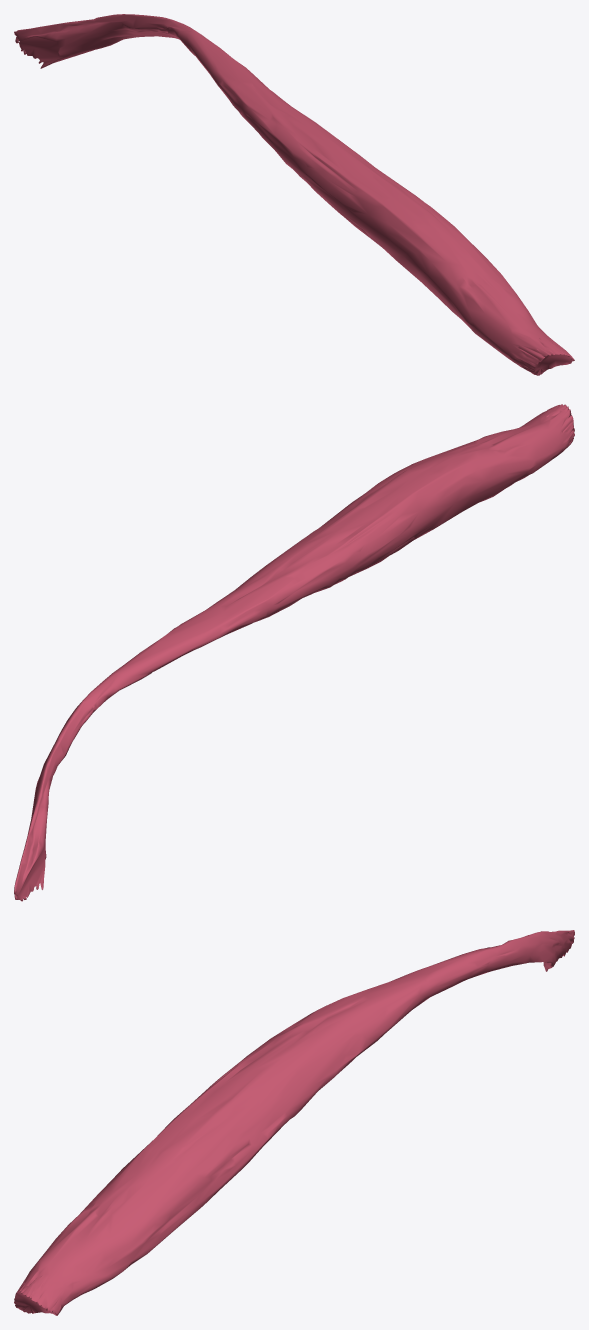
The picture shows the model from 3 angles, top to bottom: view 1: azimuth 30°, elevation 25°; view 2: azimuth 150°, elevation 25°; view 3: azimuth 330°, elevation 25°; orthographic projection. The views are drawn at different scales.
Visible parts, largest first — view 1: 右侧半腱肌; view 2: 右侧半腱肌; view 3: 右侧半腱肌.
Part boxes in pixels (x1=…): 右侧半腱肌: x1=14, y1=14, x2=574, y2=375; 右侧半腱肌: x1=14, y1=404, x2=574, y2=901; 右侧半腱肌: x1=14, y1=930, x2=574, y2=1315.
Size of the model in its own units: 0.0531 by 0.0858 by 0.6777.
